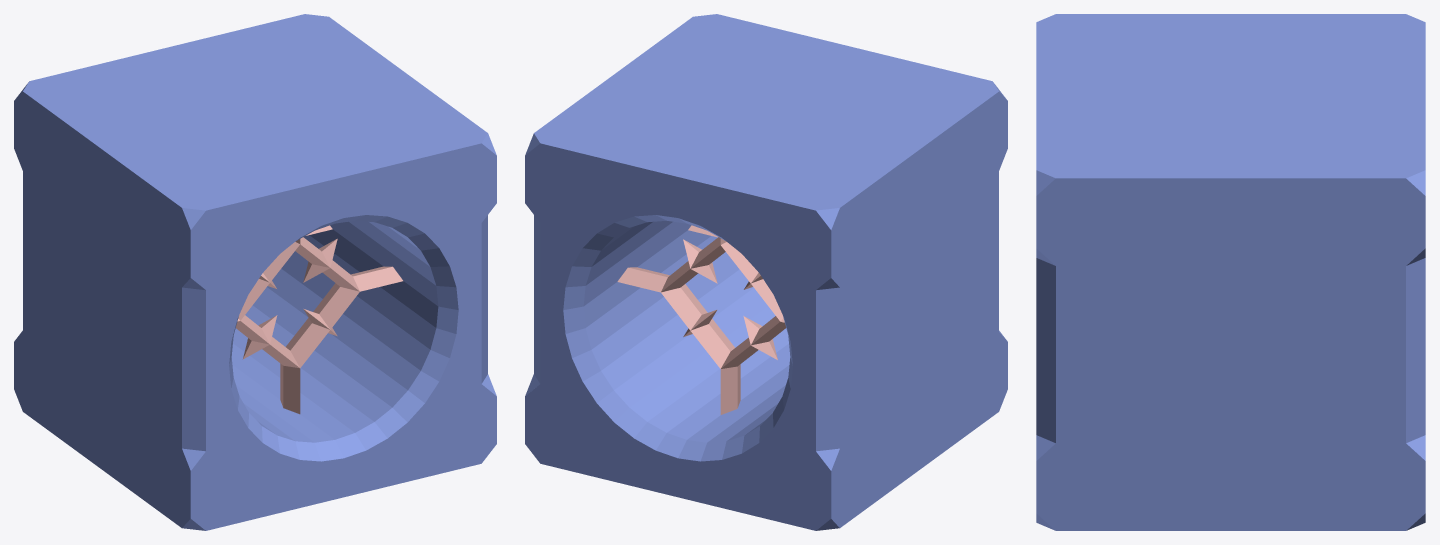
The picture shows the model from 3 angles, left to right: view 1: azimuth 30°, elevation 25°; view 2: azimuth 150°, elevation 25°; view 3: azimuth 270°, elevation 25°; orthographic projection. The views are drawn at different scales.
Visible parts, largest first — view 1: Cube.011, Cube.012; view 2: Cube.011, Cube.012; view 3: Cube.011.
Part boxes in pixels (box(x1,y1,x2,y2)): Cube.011: box(14, 14, 496, 530); Cube.012: box(236, 225, 402, 414); Cube.011: box(525, 14, 1007, 530); Cube.012: box(617, 225, 785, 414); Cube.011: box(1036, 14, 1425, 530).
Bounding box in the file's own units: 100 × 100 × 100.
